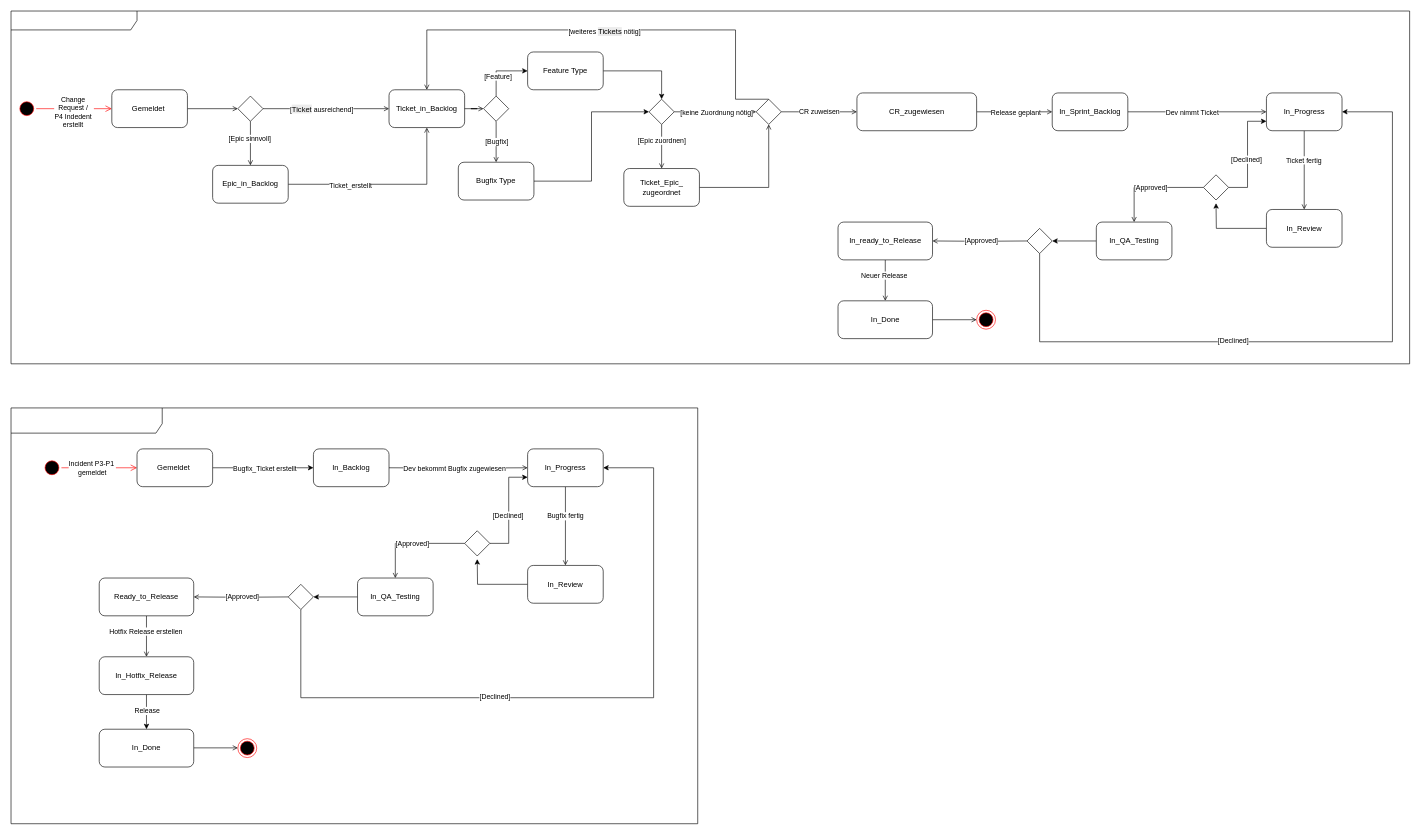
Image size: 1421x835. Some labels were removed from this diagram. The shapes that lost their labels are listed below. From the top down, each one's centre as x and y in pixels, then its label:
At (x=710, y=187): "Change Request / Incident P4".
At (x=354, y=615): "Incident P1-P3".
